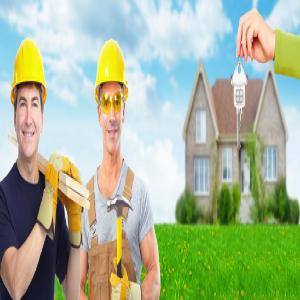yellow: (12, 40, 47, 158), (97, 37, 128, 155)
